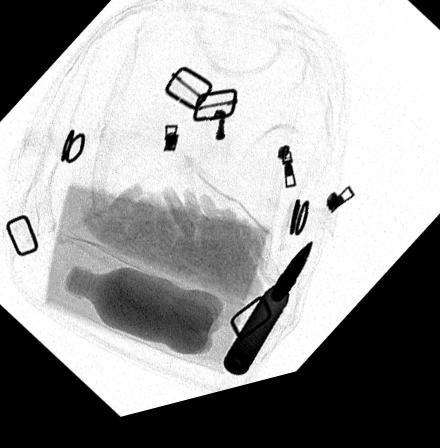Bullet: (221, 255, 315, 387)
